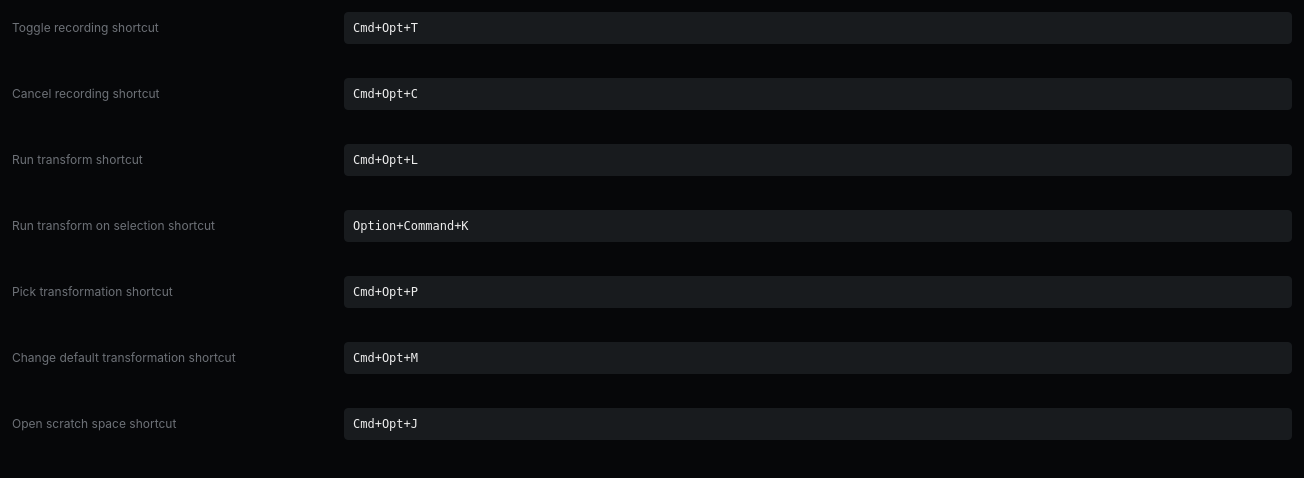
Test: SettingsShortcutEditorReact › blocks duplicate capture when an equivalent alias/order combo already exists
Click the field with id "settings-shortcut-run-transform" at {"x": 818, "y": 160}, box [344,144,1292,176]
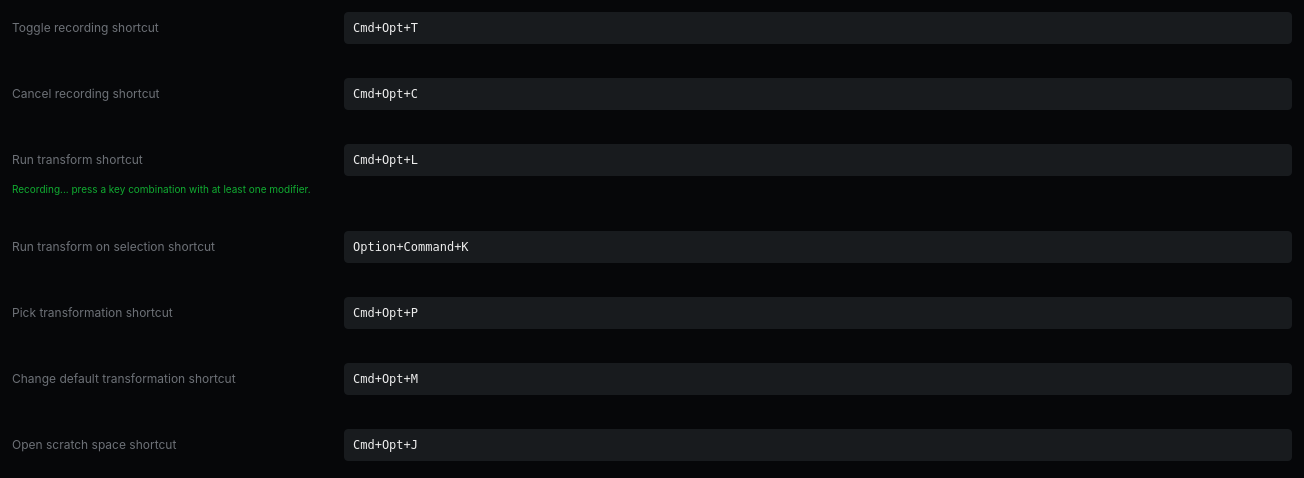
Press k in the field with id "settings-shortcut-run-transform", box [344,144,1292,176]
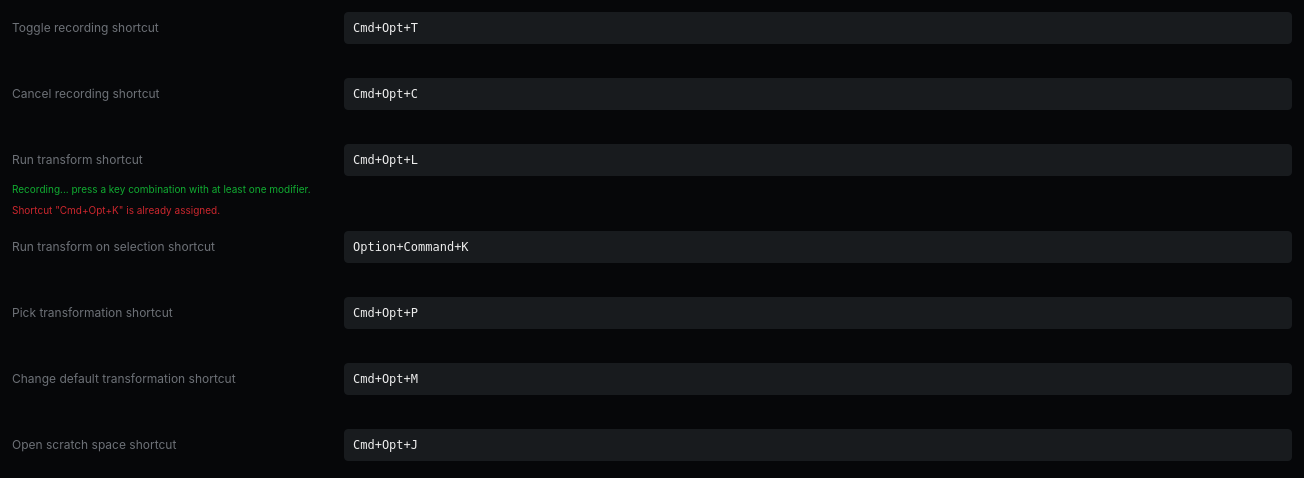
Result: the text with id "settings-error-run-transform" shows "already assigned" at [12,204,220,216]
